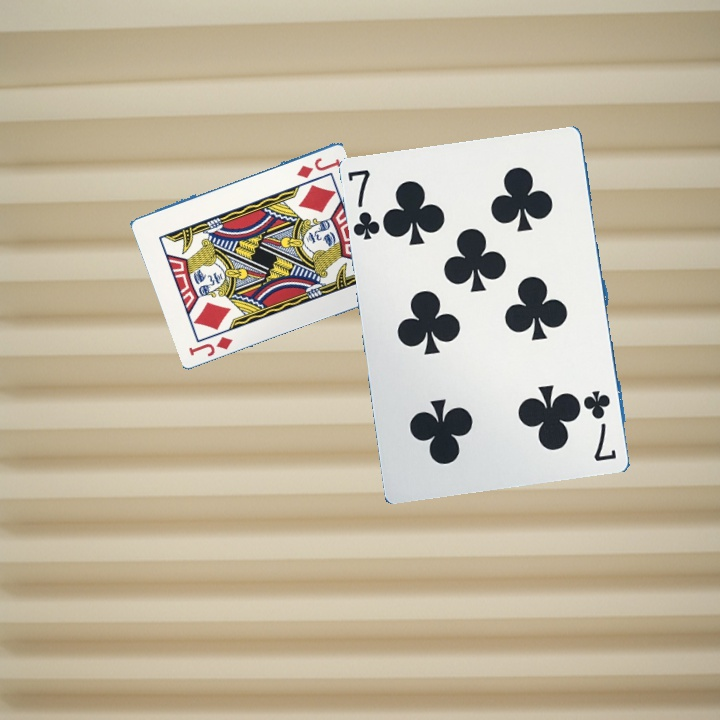8H.png: (343, 165, 383, 243), (584, 386, 619, 463)
KS.png: (293, 153, 343, 180), (185, 332, 235, 359)
